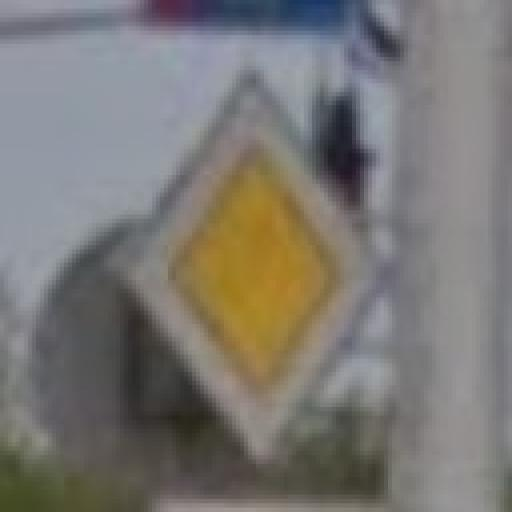traffic_sign: (121, 67, 389, 469)
